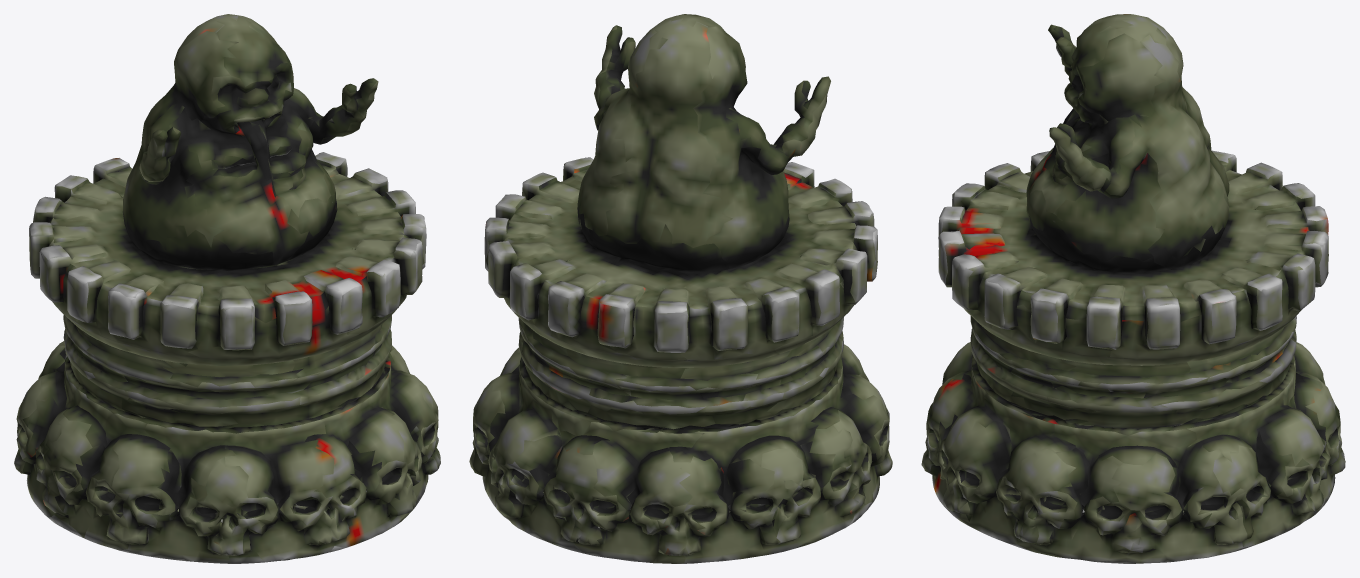
File: COL5A0.obj
3 renders of one model, left to right at view 1: azimuth 30°, elevation 25°; view 2: azimuth 150°, elevation 25°; view 3: azimuth 270°, elevation 25°, orthographic.
Size of the model in its own units: 0.8139 by 1 by 0.8366.
1 material, 1 textured.
